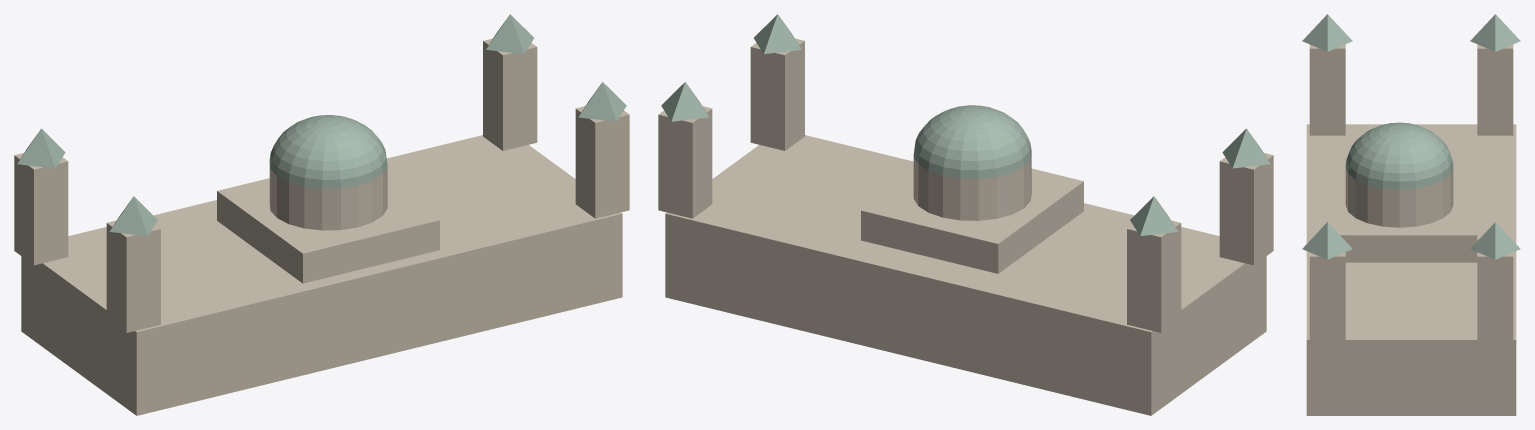
Rendered from palaunacional.glb.
3 renders of one model, left to right at view 1: azimuth 30°, elevation 25°; view 2: azimuth 150°, elevation 25°; view 3: azimuth 270°, elevation 25°, orthographic. The views are drawn at different scales.
Bounding box in the file's own units: 181 × 70 × 72.97.
